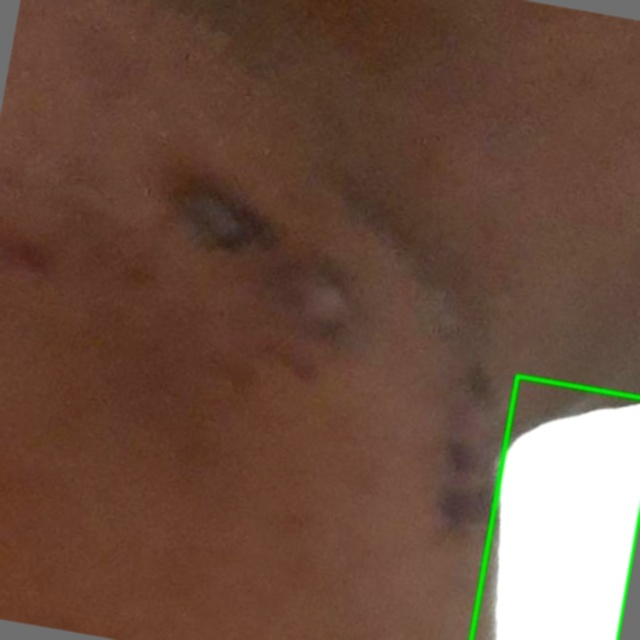Contact Dermatitis: (471, 376, 639, 639)
